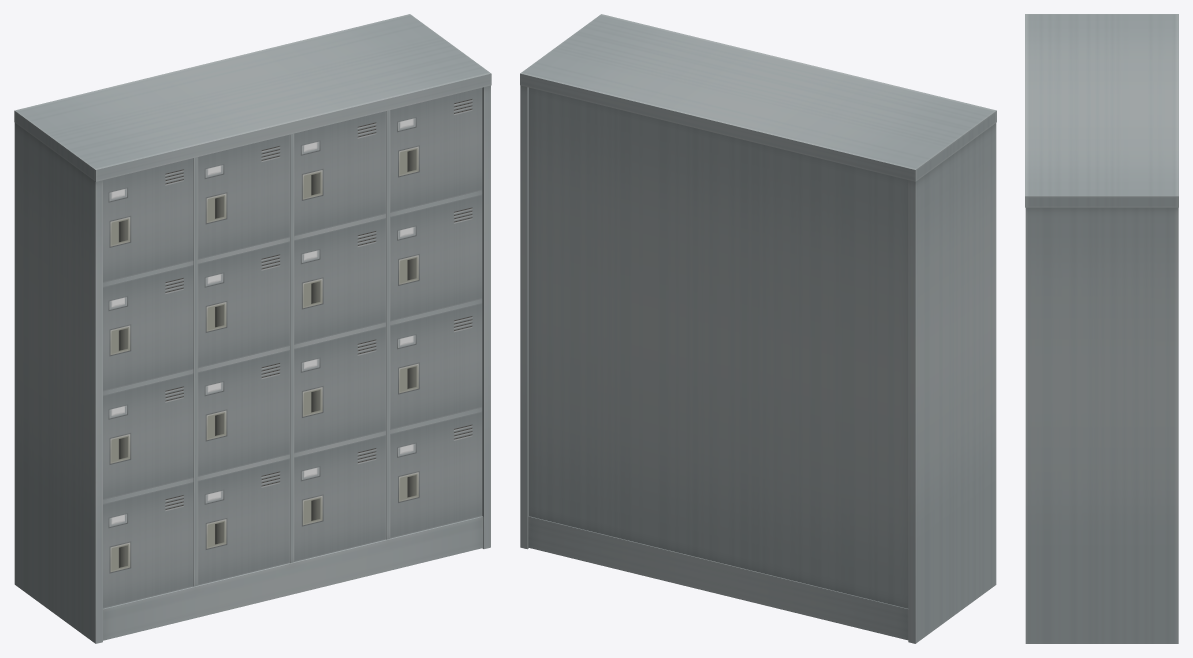
File: set_shoecupboard_a_05.fbx
3 renders of one model, left to right at view 1: azimuth 30°, elevation 25°; view 2: azimuth 150°, elevation 25°; view 3: azimuth 270°, elevation 25°, orthographic. The views are drawn at different scales.
Visible parts, largest first — view 1: shoecupboard_a_05, door_a_05_08, door_a_05_14, door_a_05_06, door_a_05_15, door_a_05_16, door_a_05_07, door_a_05_11, door_a_05_10, door_a_05_12, door_a_05_05, door_a_05_13 (+5 smaller); view 2: shoecupboard_a_05; view 3: shoecupboard_a_05.
Boxes of the visible parts, left/top/right/bottom form: shoecupboard_a_05: left=14, top=14, right=491, bottom=643; door_a_05_08: left=197, top=458, right=289, bottom=585; door_a_05_14: left=390, top=194, right=482, bottom=321; door_a_05_06: left=197, top=241, right=289, bottom=368; door_a_05_15: left=390, top=303, right=482, bottom=429; door_a_05_16: left=390, top=411, right=482, bottom=538; door_a_05_07: left=197, top=350, right=289, bottom=476; door_a_05_11: left=294, top=326, right=385, bottom=453; door_a_05_10: left=294, top=218, right=385, bottom=344; door_a_05_12: left=294, top=435, right=385, bottom=561; door_a_05_05: left=197, top=134, right=289, bottom=259; door_a_05_13: left=390, top=88, right=482, bottom=212; shoecupboard_a_05: left=520, top=14, right=996, bottom=643; shoecupboard_a_05: left=1025, top=14, right=1178, bottom=643.
Bounding box in the file's own units: 105 × 120 × 37.38.
